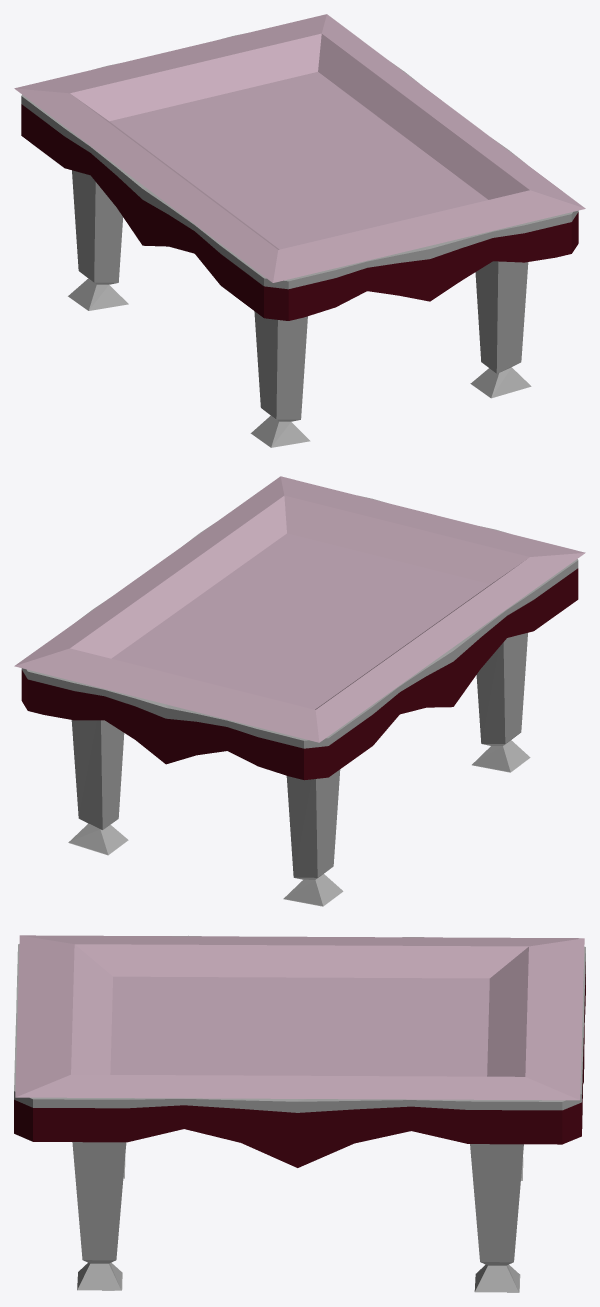
The model's file is table.fbx.
The picture shows the model from 3 angles, top to bottom: view 1: azimuth 30°, elevation 25°; view 2: azimuth 150°, elevation 25°; view 3: azimuth 270°, elevation 25°; orthographic projection. The views are drawn at different scales.
Visible parts, largest first — view 1: pCube11; view 2: pCube11; view 3: pCube11.
Part boxes in pixels (<box>): pCube11: <box>14,14,585,447</box>; pCube11: <box>14,476,585,906</box>; pCube11: <box>14,935,585,1292</box>.
Bounding box in the file's own units: 3.05 × 1.86 × 4.45.
